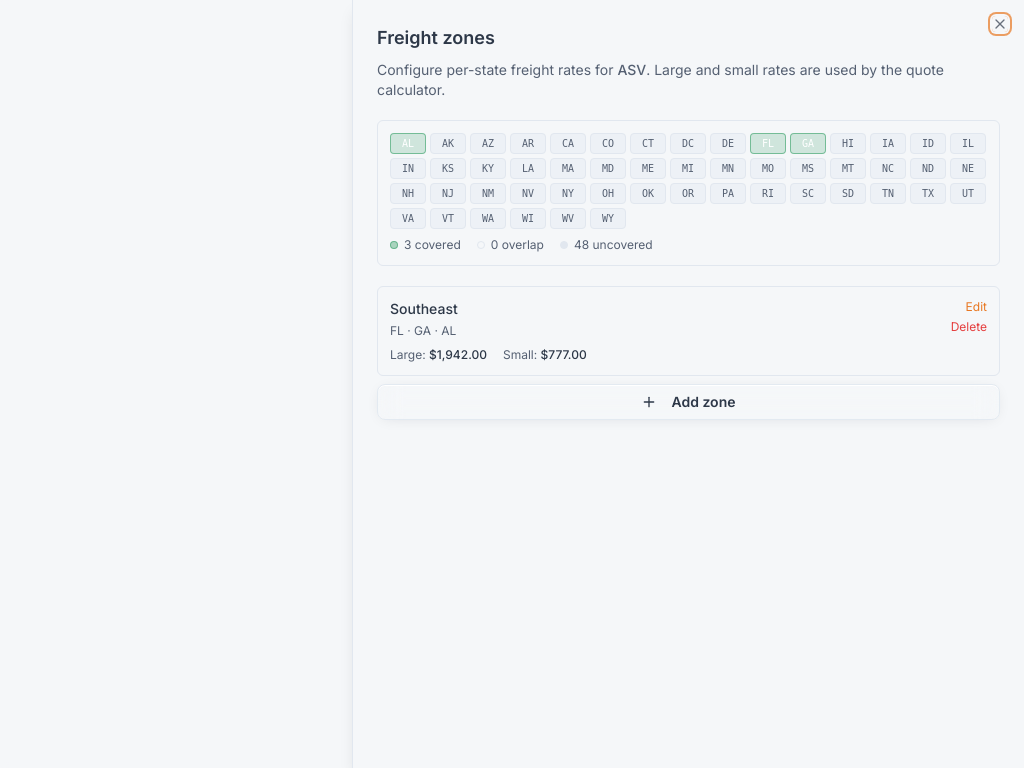
Scenario: FreightZoneDrawer (integration) › clicking Add zone opens the inline form
Step 1. Click the button "Add zone" → (688, 402), box [377,384,1000,420]
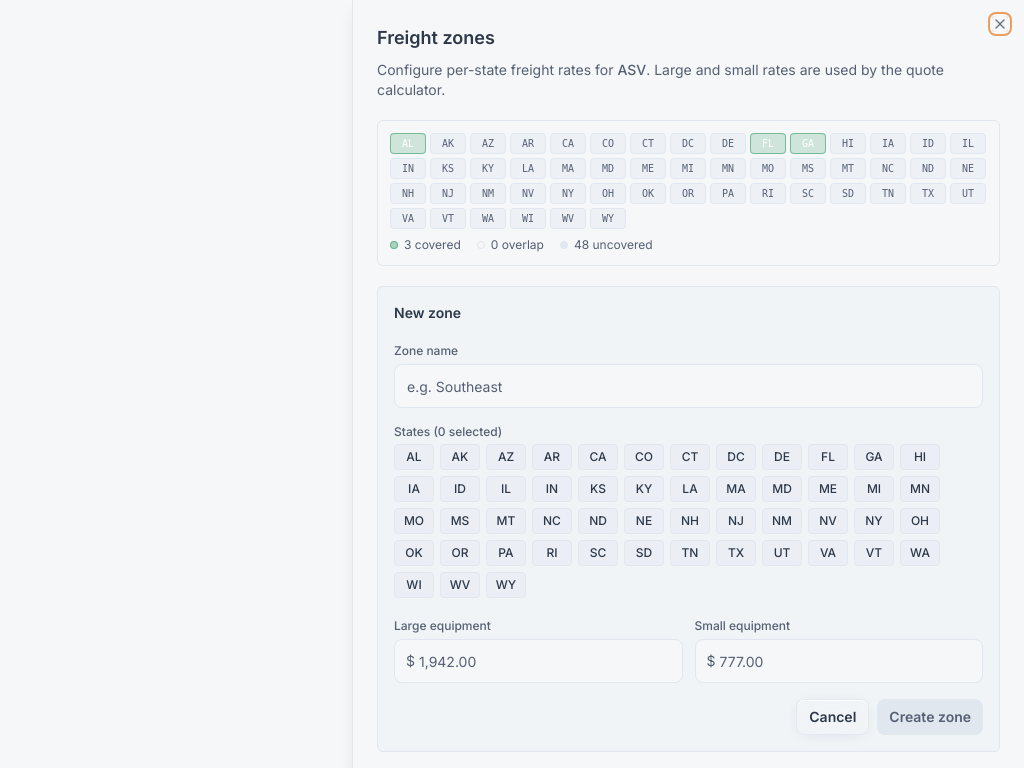
Expected: the heading "New zone" is shown, [394,303,461,323]
Expected: the field with placeholder "e.g. Southeast" is shown, [394,364,983,408]
